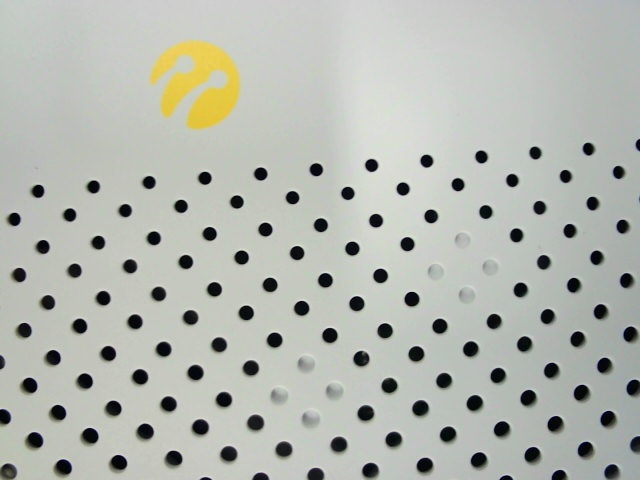AV_H3600Yellow: (138, 38, 248, 136)
